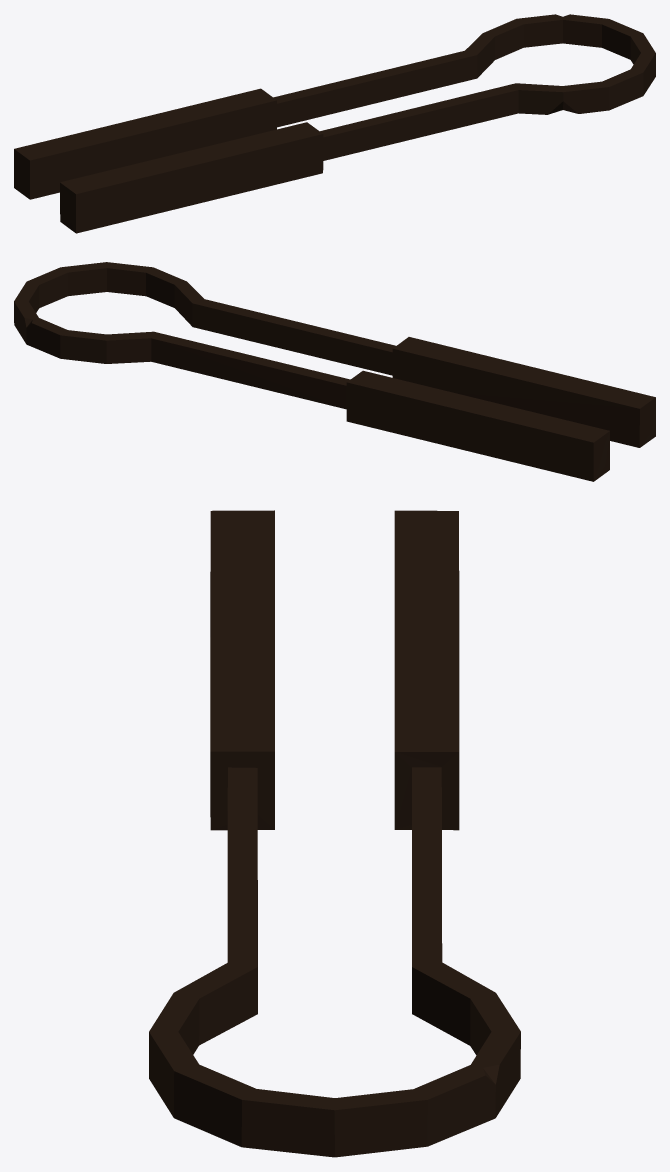
Rendered from SFFA_Tool_008.fbx.
3 views of the same model, one above another, from view 1: azimuth 30°, elevation 25°; view 2: azimuth 150°, elevation 25°; view 3: azimuth 270°, elevation 25° (orthographic). The views are drawn at different scales.
Parts seen in each view (by area): view 1: SFFA_Tool_008; view 2: SFFA_Tool_008; view 3: SFFA_Tool_008.
Boxes of the visible parts, x1,y1,x2,y2 form: SFFA_Tool_008: (14, 14, 655, 233); SFFA_Tool_008: (14, 262, 655, 481); SFFA_Tool_008: (149, 510, 520, 1157).
Size of the model in its own units: 65.67 by 4.13 by 17.68.
